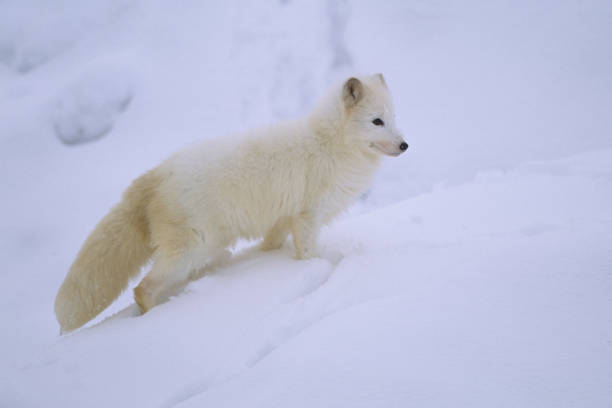arcticfox: (347, 89, 412, 182)
